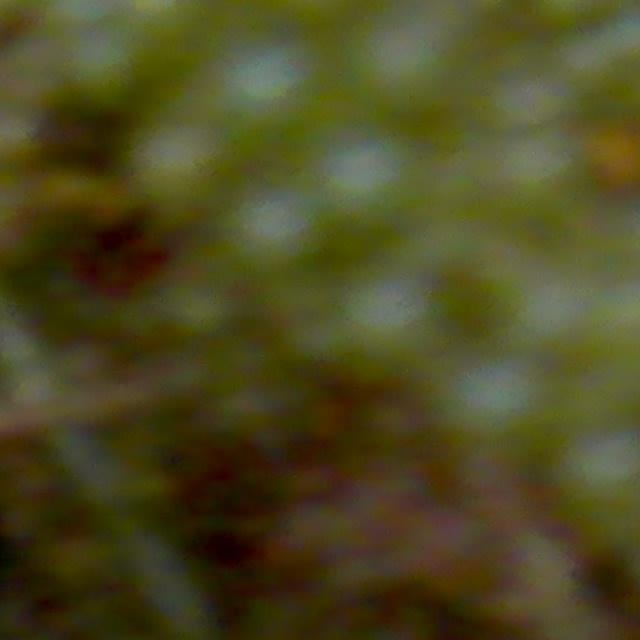SeaGrape: (338, 0, 458, 116), (476, 141, 590, 246), (201, 45, 320, 145), (335, 263, 443, 368), (445, 352, 549, 459), (224, 181, 330, 285), (497, 263, 593, 374), (312, 130, 408, 215), (58, 26, 138, 110), (135, 130, 216, 204), (572, 426, 640, 504)
